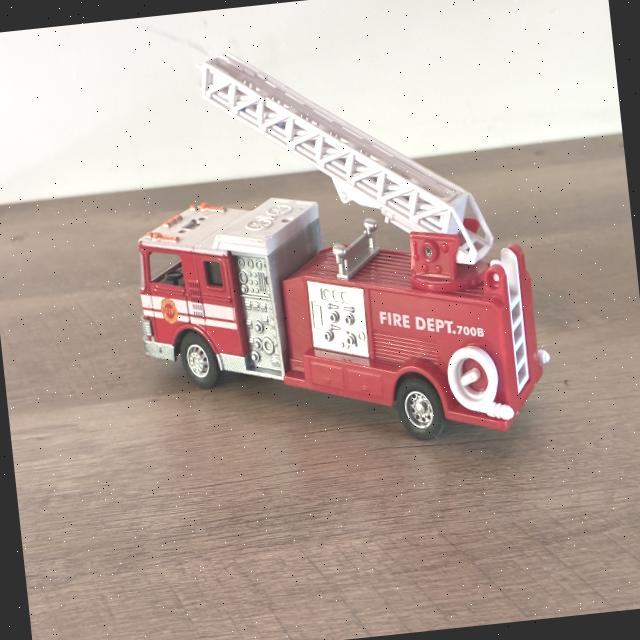fire-truck: (138, 53, 549, 439)
